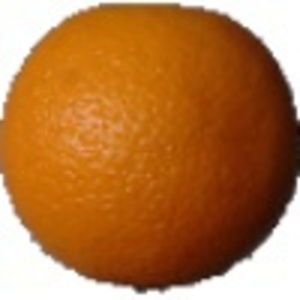laranja: (4, 5, 299, 298)
